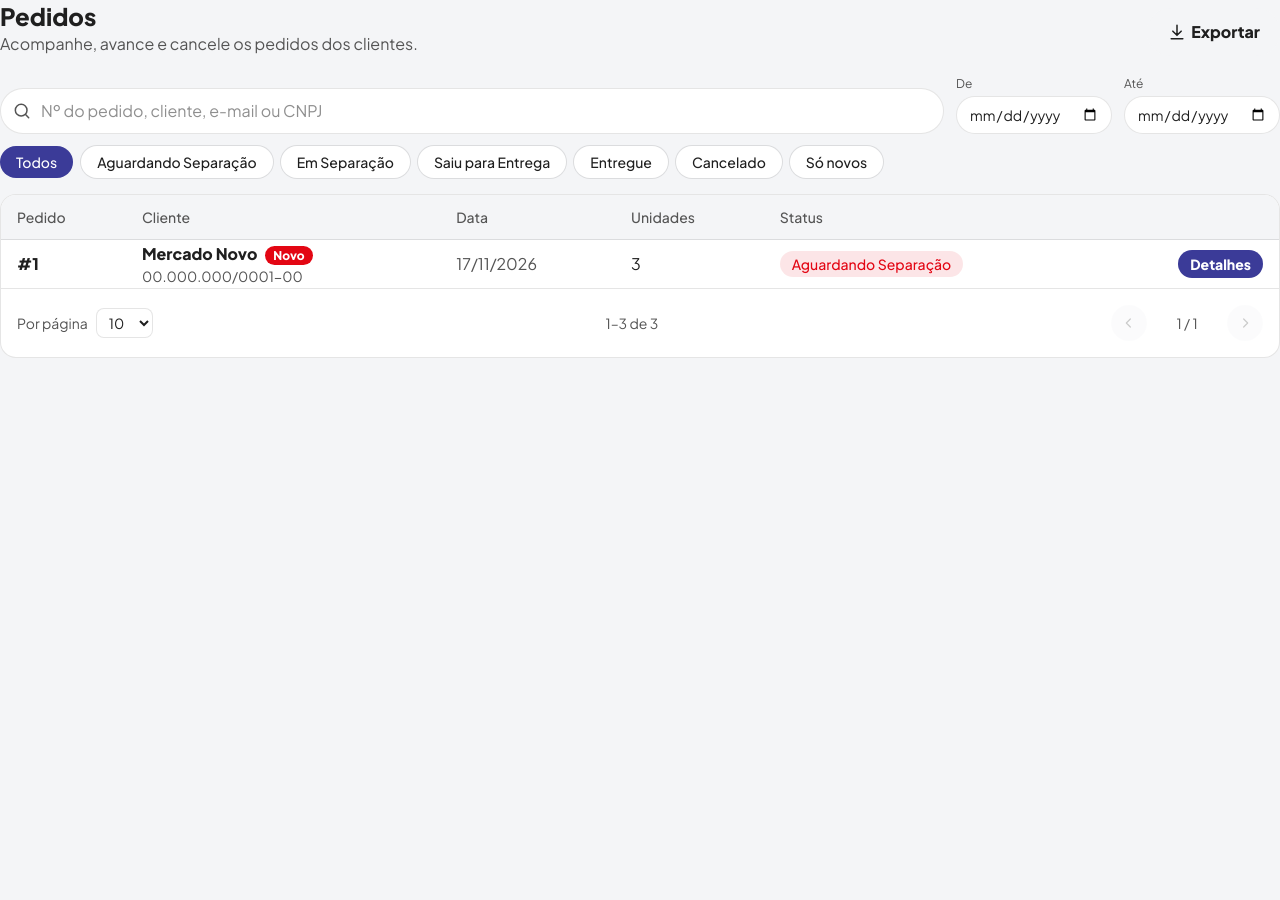
Test: Pedidos: etiqueta "Novo" › se o detalhe falhar, não atualiza o selo
Click the button "Detalhes": (1221,264) [1178,250,1263,278]
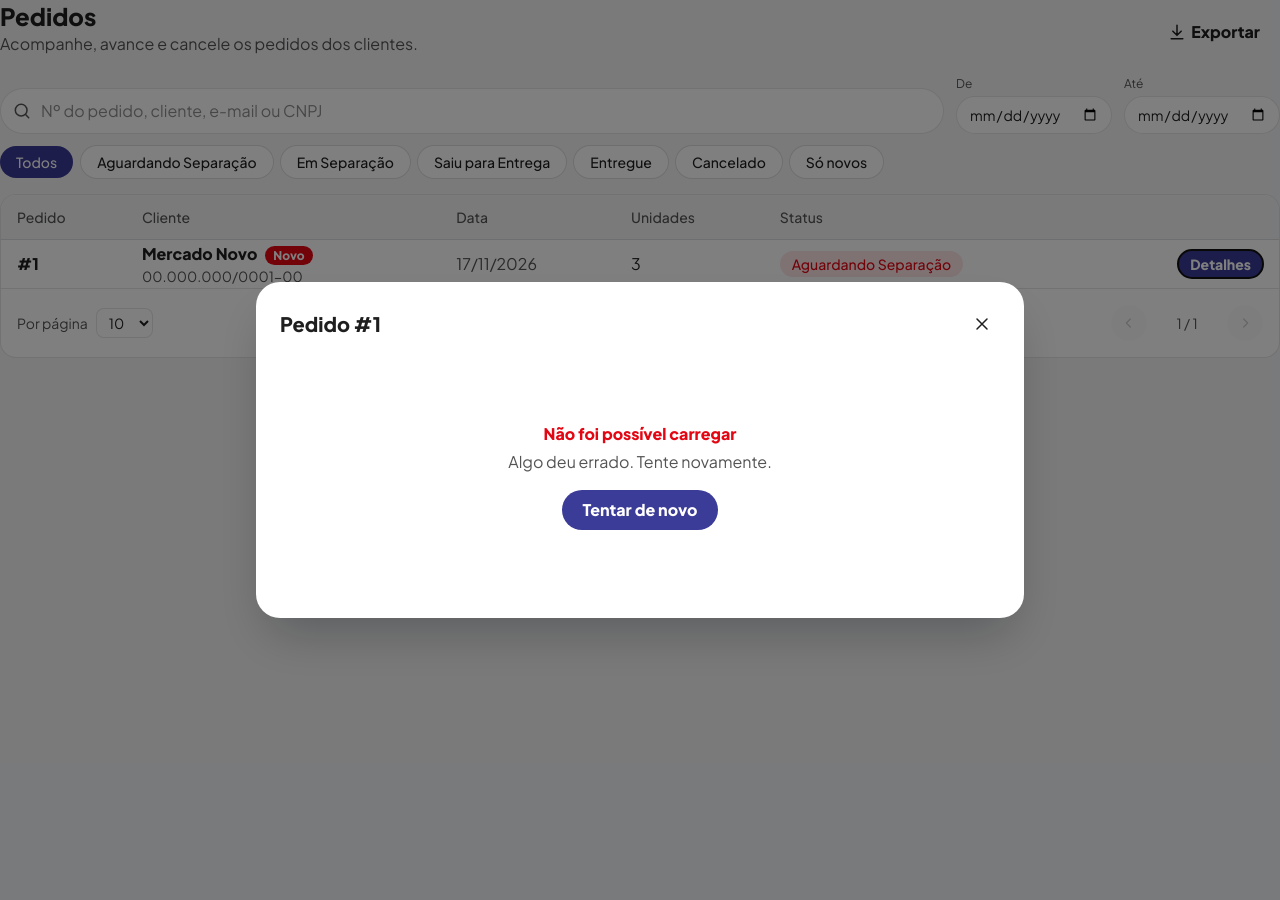
expect the dialog "Pedido #1" is shown: met, box [256,282,1024,618]
